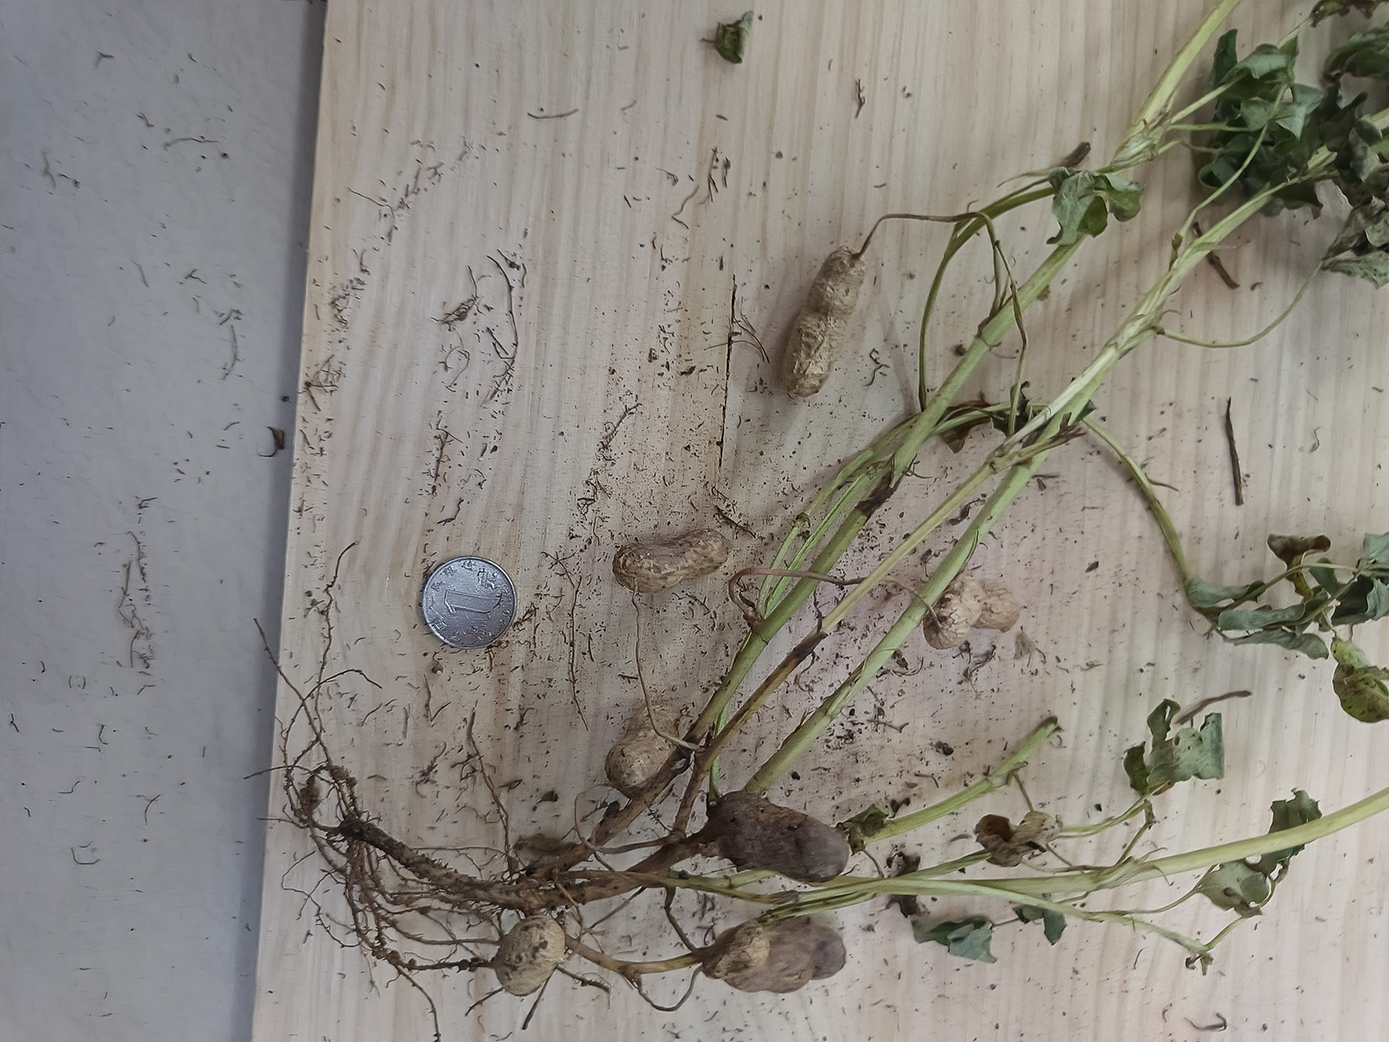h: (782, 247, 868, 396), (612, 530, 733, 594), (603, 702, 680, 796), (925, 574, 1019, 648), (495, 918, 566, 995), (708, 921, 769, 974)
l: (709, 794, 847, 885), (754, 924, 850, 995)
